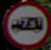Heavy Vehicles: (8, 8, 46, 40)
